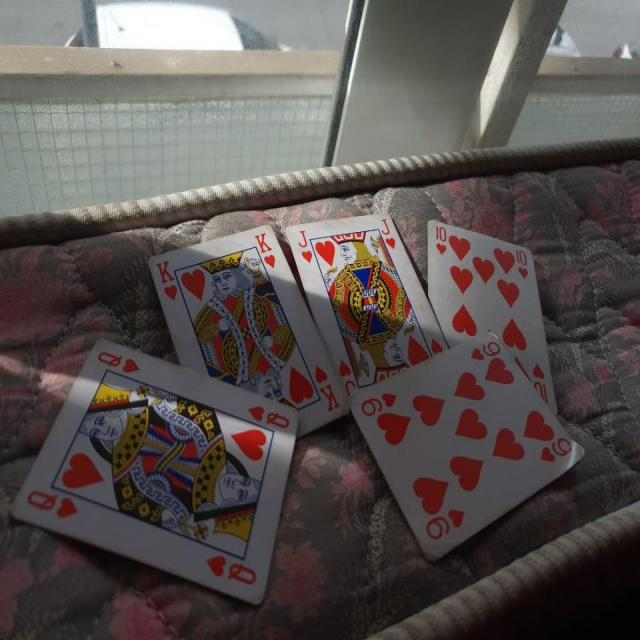10 Hearts: (424, 212, 561, 420)
9 Hearts: (347, 325, 582, 554)
J Hearts: (282, 201, 452, 387)
K Hearts: (143, 218, 347, 436)
Q Hearts: (10, 335, 295, 608)
